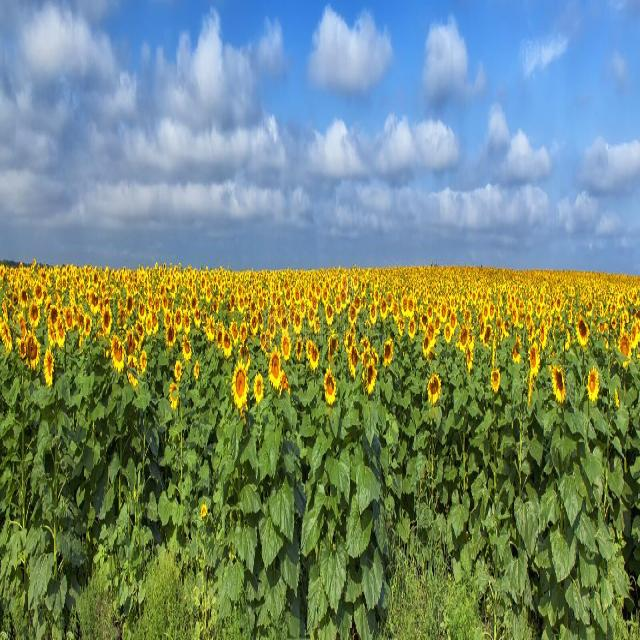sunflower: (231, 359, 252, 413), (549, 365, 569, 403), (109, 333, 125, 378), (423, 373, 444, 406), (268, 348, 284, 391), (617, 327, 632, 369), (39, 352, 57, 386), (584, 367, 600, 405), (322, 368, 338, 406), (575, 312, 590, 348), (527, 341, 541, 379), (180, 333, 194, 366), (365, 358, 377, 396), (100, 304, 112, 337), (490, 366, 501, 393)
